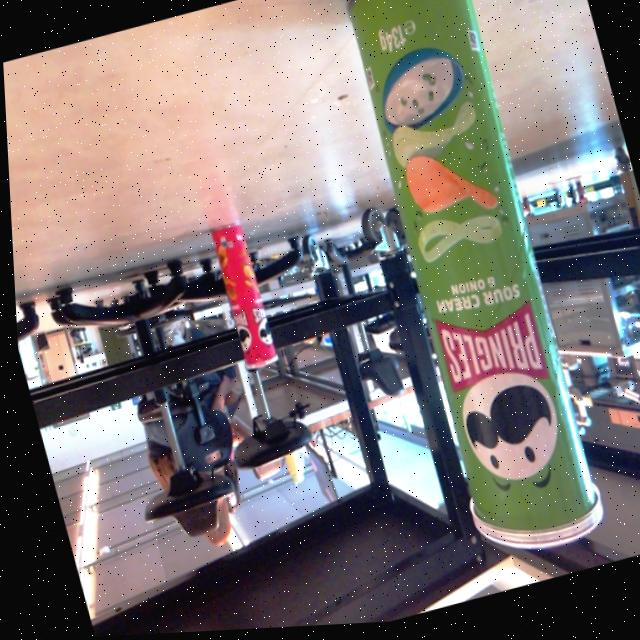greenpringles: (316, 0, 618, 591)
redpringles: (190, 208, 290, 389)
